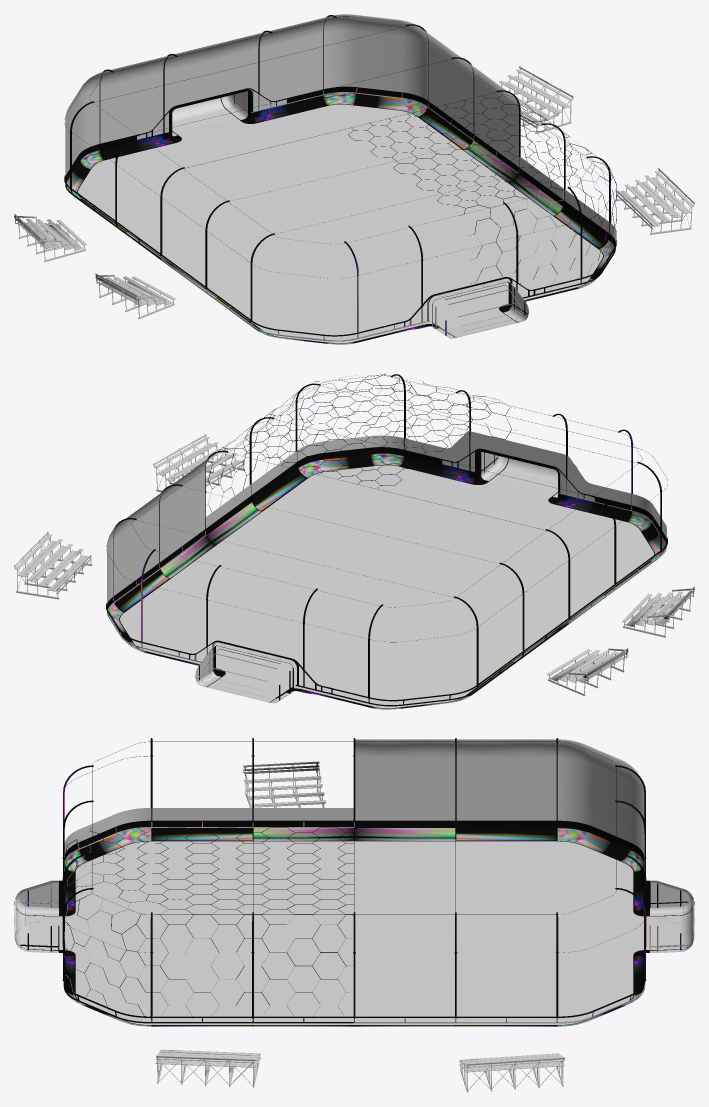
Rendered from Driftwoods_Field_WhiteModel.glb.
The picture shows the model from 3 angles, top to bottom: view 1: azimuth 30°, elevation 25°; view 2: azimuth 150°, elevation 25°; view 3: azimuth 270°, elevation 25°; orthographic projection. The views are drawn at different scales.
Parts seen in each view (by area): view 1: Woods_Field_Ground_17_0, Woods_Field_Walls_4_0, Woods_Field_Ramps_Glow_9_0, Woods_Field_Walls_Hexes_0_0, Woods_Field_Ramps_14_0, Woods_Field_Bleachers_02_21_1, Woods_Field_Ramps_13_0, Woods_Field_Wall_Posts_15_2, Woods_Field_Ramps_10_0, Woods_Field_Ramps_Trim_8_1, Woods_Field_Bleachers_02_23_1, Woods_Field_Bleachers_01_22_1 (+18 smaller); view 2: Woods_Field_Ground_17_0, Woods_Field_Ramps_Glow_11_0, Woods_Field_Walls_4_0, Woods_Field_Walls_Hexes_0_0, Woods_Field_Ramps_13_0, Woods_Field_Bleachers_02_23_1, Woods_Field_Ramps_14_0, Woods_Field_Ramps_7_0, Woods_Field_Wall_Posts_26_2, Woods_Field_Bleachers_02_21_1, Woods_Field_Ramps_Trim_16_1, Woods_Field_Bleachers_01_22_1 (+18 smaller); view 3: Woods_Field_Ground_17_0, Woods_Field_Walls_4_0, Woods_Field_Walls_Hexes_0_0, Woods_Field_Ramps_Glow_11_0, Woods_Field_Ramps_Glow_9_0, Woods_Field_Ramps_10_0, Woods_Field_Ramps_7_0, Woods_Field_Bleachers_01_20_1, Woods_Field_Ramps_10_2, Woods_Field_Ramps_7_2, Woods_Field_Bleachers_02_21_1, Woods_Field_Ramps_Trim_8_1 (+24 smaller).
Boxes of the visible parts, x1,y1,x2,y2 form: Woods_Field_Ground_17_0: (78,104,602,343); Woods_Field_Walls_4_0: (65,14,518,165); Woods_Field_Ramps_Glow_9_0: (65,75,518,176); Woods_Field_Walls_Hexes_0_0: (348,92,616,284); Woods_Field_Ramps_14_0: (253,95,516,182); Woods_Field_Bleachers_02_21_1: (616,168,694,229); Woods_Field_Ramps_13_0: (507,176,613,305); Woods_Field_Wall_Posts_15_2: (205,90,610,333); Woods_Field_Ramps_10_0: (67,134,174,264); Woods_Field_Ramps_Trim_8_1: (66,90,518,264); Woods_Field_Bleachers_02_23_1: (499,66,573,128); Woods_Field_Bleachers_01_22_1: (14,214,86,250); Woods_Field_Ground_17_0: (120,465,653,708); Woods_Field_Ramps_Glow_11_0: (205,431,666,538); Woods_Field_Walls_4_0: (107,456,210,592); Woods_Field_Walls_Hexes_0_0: (205,373,517,511); Woods_Field_Ramps_13_0: (207,455,475,544); Woods_Field_Bleachers_02_23_1: (14,531,90,594); Woods_Field_Ramps_14_0: (109,538,217,670); Woods_Field_Ramps_7_0: (556,496,664,628); Woods_Field_Wall_Posts_26_2: (114,484,570,697); Woods_Field_Bleachers_02_21_1: (153,434,244,486); Woods_Field_Ramps_Trim_16_1: (206,449,666,628); Woods_Field_Bleachers_01_22_1: (547,648,628,682); Woods_Field_Ground_17_0: (28,841,680,1024); Woods_Field_Walls_4_0: (355,739,644,871); Woods_Field_Walls_Hexes_0_0: (63,827,354,1018); Woods_Field_Ramps_Glow_11_0: (64,808,353,871); Woods_Field_Ramps_Glow_9_0: (355,808,644,855); Woods_Field_Ramps_10_0: (355,830,643,910); Woods_Field_Ramps_7_0: (65,830,353,910); Woods_Field_Bleachers_01_20_1: (243,761,326,807); Woods_Field_Ramps_10_2: (355,821,643,859); Woods_Field_Ramps_7_2: (65,821,353,859); Woods_Field_Bleachers_02_21_1: (155,1049,260,1067); Woods_Field_Ramps_Trim_8_1: (354,821,693,1026).
Size of the model in its own units: 127 by 22 by 120.
